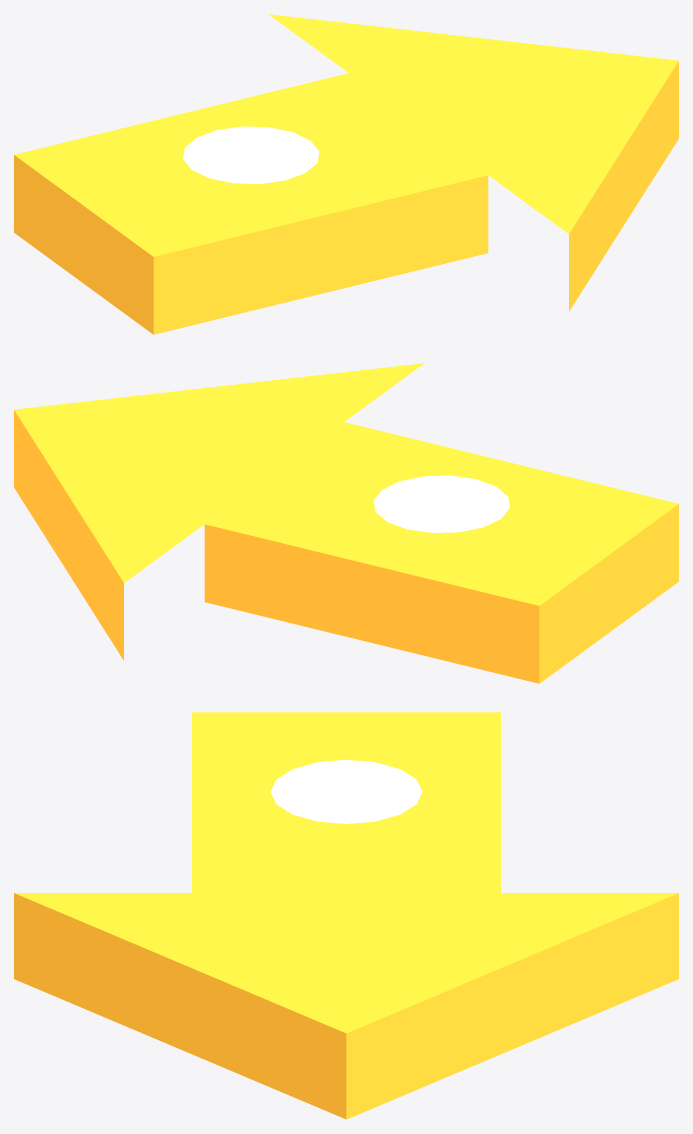
The model's file is pad_amber1.glb.
3 renders of one model, top to bottom at view 1: azimuth 30°, elevation 25°; view 2: azimuth 150°, elevation 25°; view 3: azimuth 270°, elevation 25°, orthographic. The views are drawn at different scales.
Parts seen in each view (by area): view 1: pad_amber1; view 2: pad_amber1; view 3: pad_amber1.
Boxes of the visible parts, x1,y1,x2,y2 form: pad_amber1: (14, 14, 678, 334); pad_amber1: (14, 363, 678, 683); pad_amber1: (14, 712, 678, 1119).
Bounding box in the file's own units: 0.032 × 0.0045 × 0.028.
